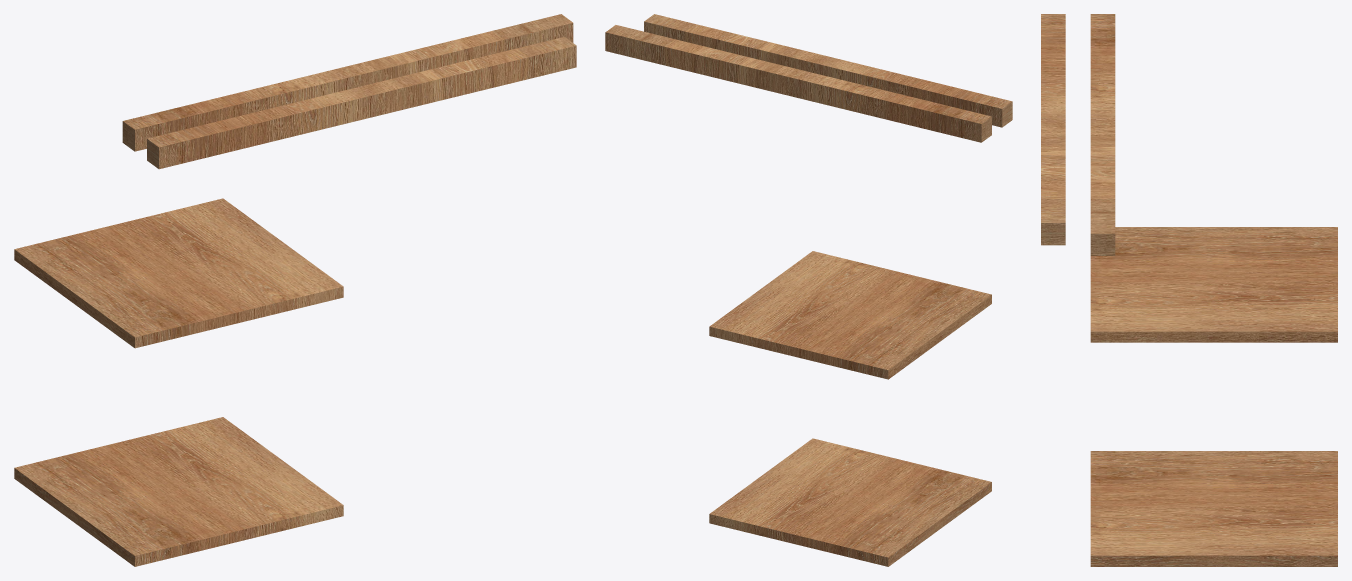
Rendered from 42713_gpt-only.glb.
3 views of the same model, side by side, from view 1: azimuth 30°, elevation 25°; view 2: azimuth 150°, elevation 25°; view 3: azimuth 270°, elevation 25° (orthographic). The views are drawn at different scales.
Visible parts, largest first — view 1: ParentEmpty; view 2: ParentEmpty; view 3: ParentEmpty.
Boxes of the visible parts, <box> form: ParentEmpty: <box>14,14,576,566</box>; ParentEmpty: <box>605,14,1012,566</box>; ParentEmpty: <box>1041,14,1337,566</box>.
Bounding box in the file's own units: 1 × 0.9526 × 0.5714.
1 material, 1 textured.
